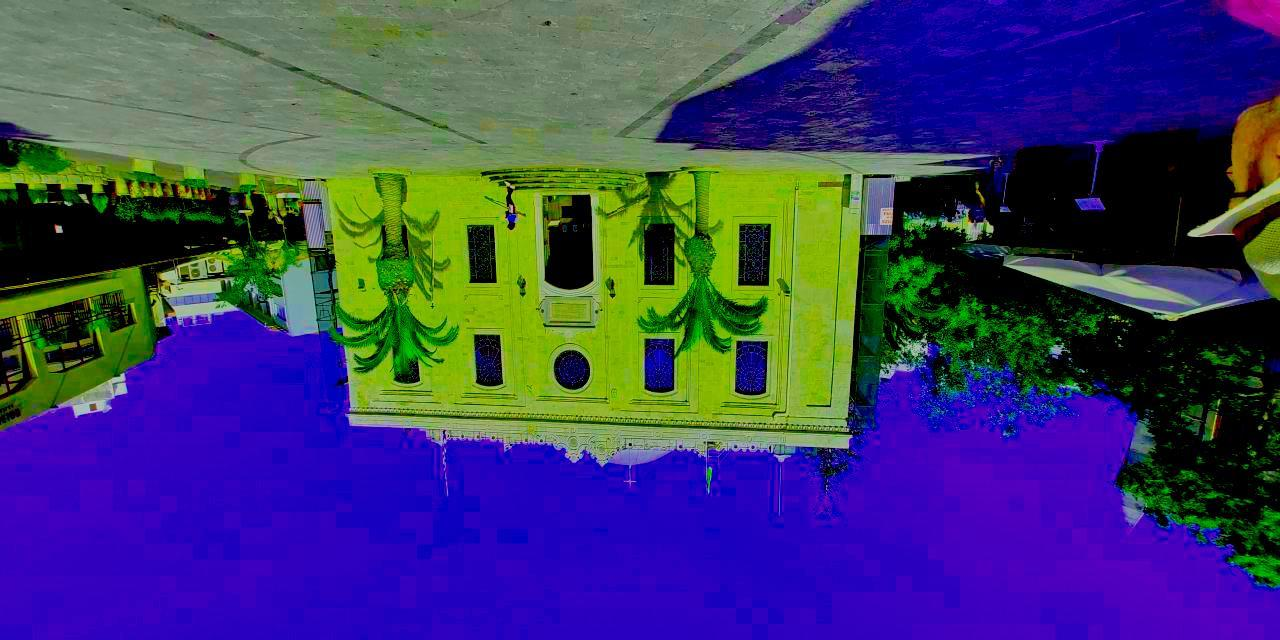Agios Titos: (343, 165, 868, 461)
